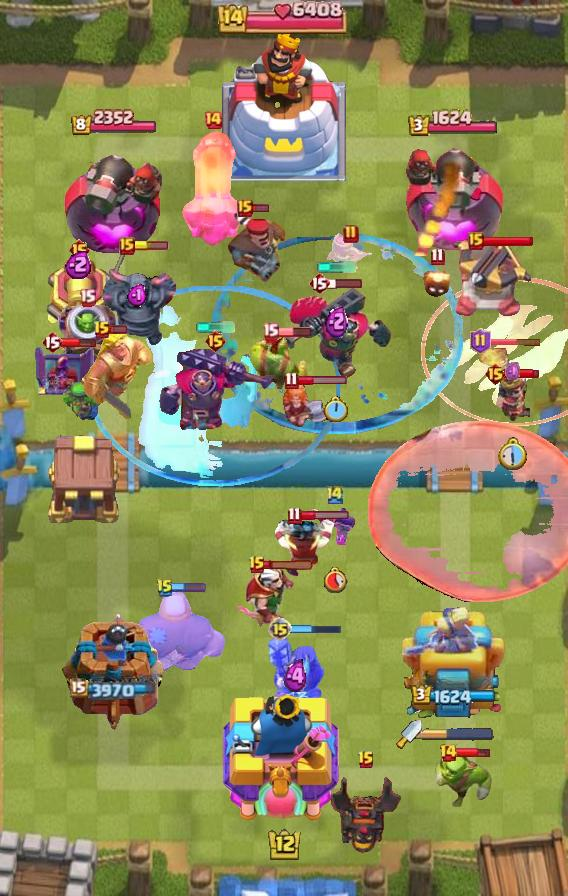archer-evolution: (329, 773, 403, 855)
balloon: (122, 589, 228, 679)
bar: (399, 607, 507, 731)
bomb: (45, 432, 125, 526)
bomber: (423, 270, 451, 300)
bomber-evolution: (496, 373, 530, 423)
cannon: (325, 232, 377, 272)
clock: (217, 0, 351, 34)
electro-spirit: (283, 658, 309, 693), (65, 249, 93, 279), (324, 306, 347, 338), (128, 284, 149, 308), (506, 362, 523, 383)
elixir: (499, 437, 530, 471), (322, 566, 348, 593), (323, 396, 348, 424)
emote: (482, 235, 534, 247), (290, 623, 342, 635), (263, 560, 315, 571), (296, 374, 347, 385), (299, 511, 350, 522), (488, 337, 542, 346), (455, 746, 491, 759), (327, 277, 363, 289), (276, 326, 312, 338), (504, 368, 540, 380), (171, 582, 207, 594), (61, 336, 97, 347), (133, 241, 169, 251), (108, 325, 127, 336), (250, 203, 269, 213)
flying-machine: (430, 751, 492, 807), (250, 335, 310, 389)
furnace: (179, 128, 247, 248)
giant-snowball: (63, 382, 105, 422)
goblin: (309, 506, 361, 548)
goblin-cage: (55, 301, 119, 371)
goblin-hut: (79, 327, 155, 423)
golemite: (98, 243, 176, 347)
hog-rider: (279, 380, 329, 430)
ice-spirit: (315, 261, 357, 273), (194, 321, 236, 333)
ice-spirit-evolution: (476, 342, 512, 374)
ice-spirit-evolution-symbol: (32, 344, 96, 398)
ice-wizard: (420, 277, 567, 427)
inferno-dragon: (267, 634, 325, 728)
inferno-tower: (279, 285, 393, 381), (156, 343, 274, 431)
king-tower: (222, 31, 346, 181), (223, 689, 345, 826)
king-tower-bar: (422, 727, 494, 741)
lava-pup: (449, 240, 531, 320)
lumberjack: (268, 518, 338, 578)
pad_0: (209, 232, 463, 434), (88, 286, 342, 488)
phoenix-egg: (366, 420, 568, 604)
phoenix-small: (226, 210, 288, 282)
queen-tower: (62, 613, 166, 731)
royal-recruit: (43, 255, 115, 329)
selected: (407, 110, 499, 139), (70, 109, 158, 137), (70, 678, 158, 700), (412, 684, 497, 706)
skeleton-king: (231, 565, 303, 631)
text: (268, 617, 292, 641), (68, 238, 91, 262), (205, 329, 228, 353), (484, 362, 507, 386), (469, 328, 490, 354), (308, 271, 330, 295), (41, 330, 63, 354), (325, 483, 345, 504), (203, 110, 223, 130), (438, 743, 457, 763), (93, 320, 111, 340), (248, 555, 266, 575), (156, 578, 174, 598), (357, 750, 375, 770), (261, 323, 279, 342), (80, 288, 97, 307), (343, 224, 359, 244), (237, 199, 253, 217), (468, 232, 484, 250), (119, 237, 135, 255), (431, 246, 446, 265), (285, 371, 300, 389), (287, 507, 302, 525)
tower-bar: (404, 138, 505, 256), (64, 138, 164, 256)
